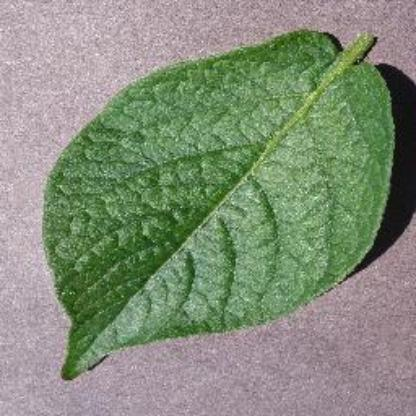Healthy-plant: (43, 24, 396, 390)
